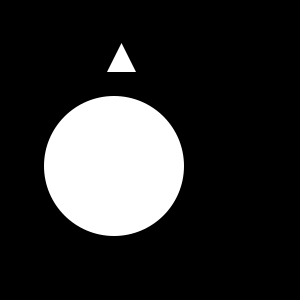rectangle: (44, 96, 184, 236)
triangle: (107, 43, 136, 72)
